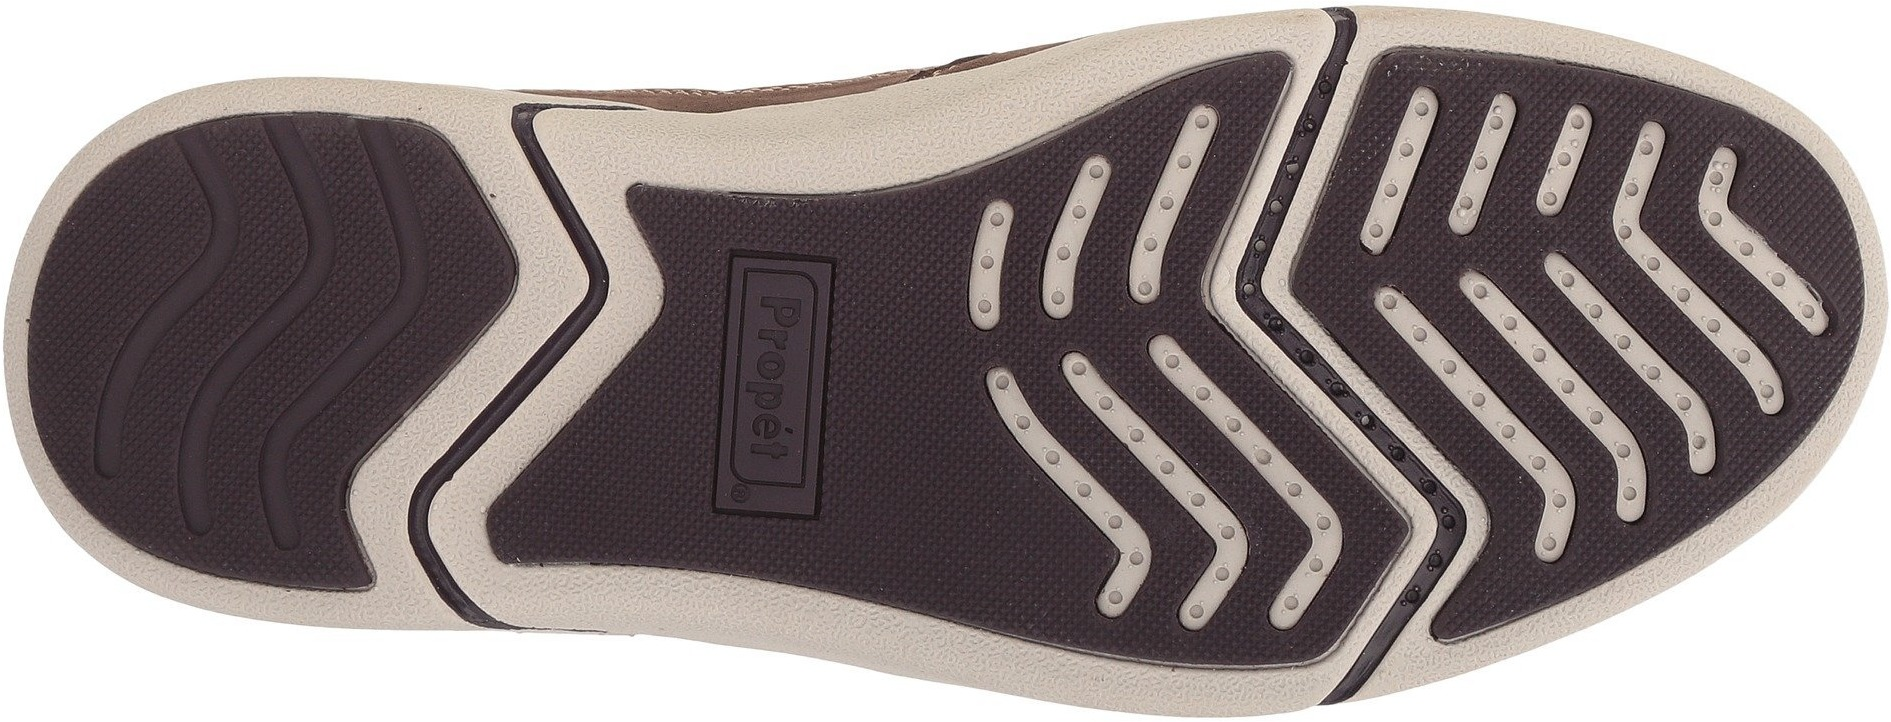chevron: (135, 153, 426, 392), (1146, 444, 1354, 634), (1487, 395, 1658, 560), (1603, 121, 1766, 275)
circle: (702, 235, 861, 559), (1358, 84, 1605, 251), (968, 149, 1123, 342)
exclude: (371, 614, 1075, 721)
line: (1358, 84, 1605, 251), (968, 149, 1123, 342)
other: (835, 399, 1005, 579)
quad: (702, 235, 861, 559)
ribbon: (1211, 107, 1377, 268)
text: (702, 235, 861, 559), (734, 278, 820, 383), (734, 393, 822, 485)
